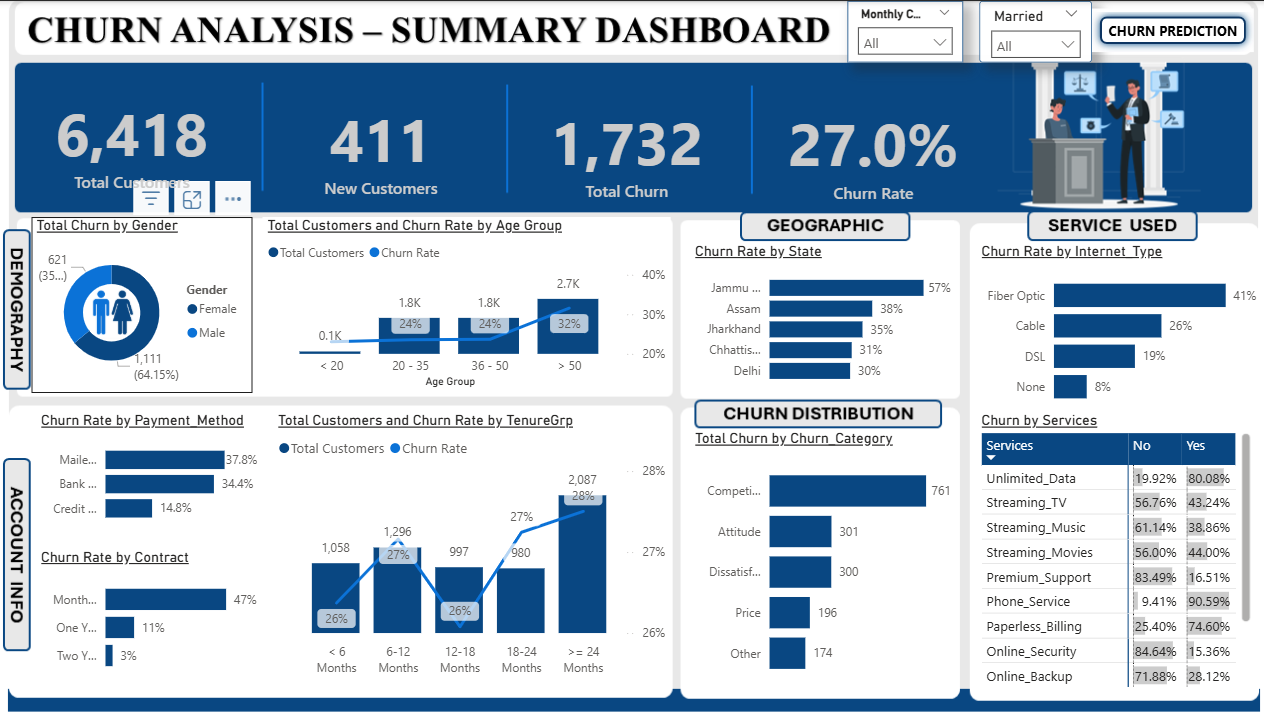

What the dashboard file says about the page in this screenshot:
{"tool":"powerbi","page":{"name":"Summary","canvas":[1280,720],"ordinal":0},"visuals":[{"type":"image","box":[81.8,283.2,68.1,62.1],"z":0},{"type":"cardVisual","fields":{"Data":["Table_Measures.New Customers"]},"box":[271.5,80.3,227.1,124.2],"z":1000},{"type":"cardVisual","fields":{"Data":["Table_Measures.Total Churn"]},"box":[515.8,83.3,233.2,122.7],"z":2000},{"type":"cardVisual","fields":{"Data":["Table_Measures.Churn Rate"]},"box":[766.2,84.8,231.7,122.7],"z":3000},{"type":"donutChart","fields":{"Category":["prod_Churn.Gender"],"Y":["Table_Measures.Total Churn"]},"box":[31.8,218,222.6,177.2],"z":4000},{"type":"lineStackedColumnComboChart","fields":{"Category":["Mapping_AgeGrp.Age Group"],"Y":["Table_Measures.Total Customers"],"Y2":["Table_Measures.Churn Rate"]},"box":[265,218,411.9,177.2],"z":5000},{"type":"clusteredBarChart","fields":{"Category":["prod_Churn.Payment_Method"],"Y":["Table_Measures.Churn Rate"]},"box":[36.3,414.9,228.6,122.7],"z":6000},{"type":"clusteredBarChart","fields":{"Y":["Table_Measures.Churn Rate"],"Category":["prod_Churn.Contract"]},"box":[36.3,552.7,228.6,136.3],"z":7000},{"type":"lineStackedColumnComboChart","fields":{"Category":["Mapping_TenureGrp.Tenure Group"],"Y2":["Table_Measures.Churn Rate"],"Y":["Table_Measures.Total Customers"]},"box":[275.6,414.9,401.3,274.1],"z":8000},{"type":"clusteredBarChart","fields":{"Category":["prod_Churn.State"],"Y":["Table_Measures.Churn Rate"]},"box":[696.5,243.8,268,151.4],"z":9000},{"type":"clusteredBarChart","fields":{"Y":["Table_Measures.Total Churn"],"Category":["prod_Churn.Churn_Category"]},"box":[696.5,433.1,268,263.5],"z":10000},{"type":"clusteredBarChart","fields":{"Category":["prod_Churn.Internet_Type"],"Y":["Table_Measures.Churn Rate"]},"box":[985.7,243.8,293.8,175.6],"z":11000},{"type":"pivotTable","title":"Churn by Services","fields":{"Rows":["prod_Services.Services"],"Columns":["prod_Services.Status"],"Values":["Sum(prod_Services.Churn Status)"]},"box":[985.7,414.9,281.6,281.6],"z":12000},{"type":"slicer","fields":{"Values":["prod_Churn.Monthly Charge Status"]},"box":[855.5,0,116.6,62.1],"z":13000},{"type":"slicer","fields":{"Values":["prod_Churn.Married"]},"box":[988.8,0,113.6,62.1],"z":14000},{"type":"cardVisual","fields":{"Data":["Table_Measures.Total Customers"]},"box":[12.1,74.2,242.3,128.7],"z":15000},{"type":"shape","box":[1102.3,7.6,163.5,43.9],"z":16000}]}

Visuals, with their boxes on the page's 1280x720 design canvas (x1, y1, x2, y2). These are canvas units, not pixel positions in the 1264x713 screenshot, which may show the page scaled, cropped or inside an application window:
image: bbox(82, 283, 150, 345)
cardVisual - Table_Measures.New Customers: bbox(272, 80, 499, 204)
cardVisual - Table_Measures.Total Churn: bbox(516, 83, 749, 206)
cardVisual - Table_Measures.Churn Rate: bbox(766, 85, 998, 208)
donutChart - prod_Churn.Gender x Table_Measures.Total Churn: bbox(32, 218, 254, 395)
lineStackedColumnComboChart - Mapping_AgeGrp.Age Group x Table_Measures.Total Customers: bbox(265, 218, 677, 395)
clusteredBarChart - prod_Churn.Payment_Method x Table_Measures.Churn Rate: bbox(36, 415, 265, 538)
clusteredBarChart - Table_Measures.Churn Rate x prod_Churn.Contract: bbox(36, 553, 265, 689)
lineStackedColumnComboChart - Mapping_TenureGrp.Tenure Group x Table_Measures.Churn Rate: bbox(276, 415, 677, 689)
clusteredBarChart - prod_Churn.State x Table_Measures.Churn Rate: bbox(696, 244, 964, 395)
clusteredBarChart - Table_Measures.Total Churn x prod_Churn.Churn_Category: bbox(696, 433, 964, 697)
clusteredBarChart - prod_Churn.Internet_Type x Table_Measures.Churn Rate: bbox(986, 244, 1280, 419)
"Churn by Services" pivotTable: bbox(986, 415, 1267, 696)
slicer - prod_Churn.Monthly Charge Status: bbox(856, 0, 972, 62)
slicer - prod_Churn.Married: bbox(989, 0, 1102, 62)
cardVisual - Table_Measures.Total Customers: bbox(12, 74, 254, 203)
shape: bbox(1102, 8, 1266, 52)
